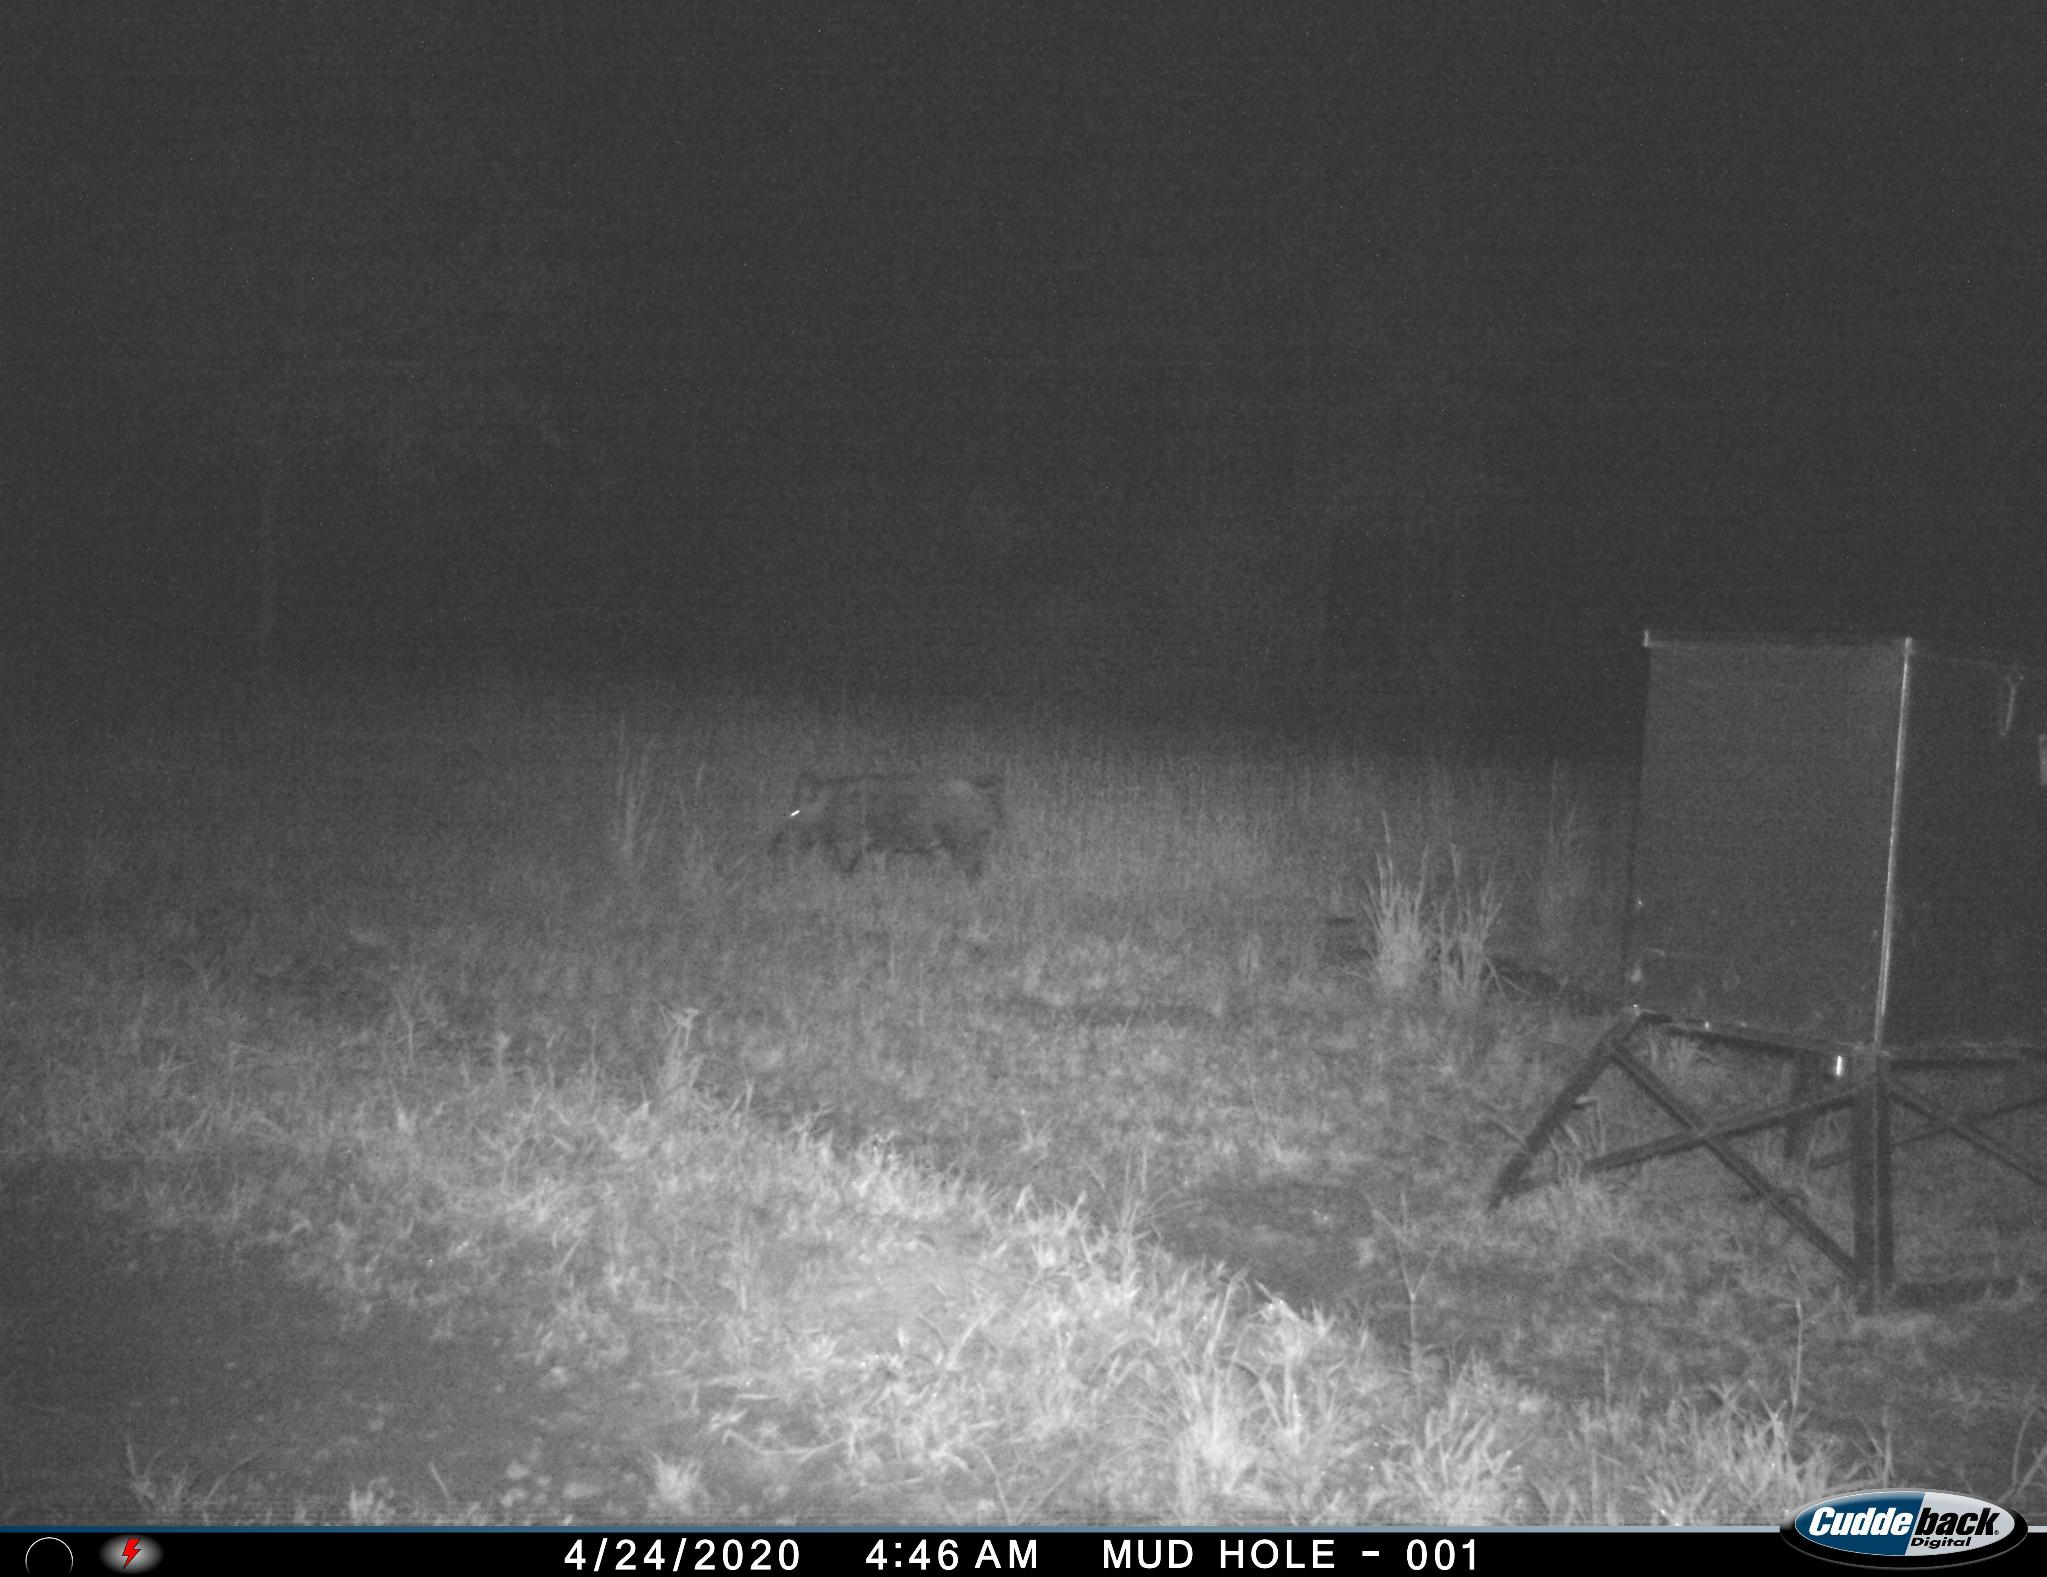Hog: (767, 765, 1015, 929)
